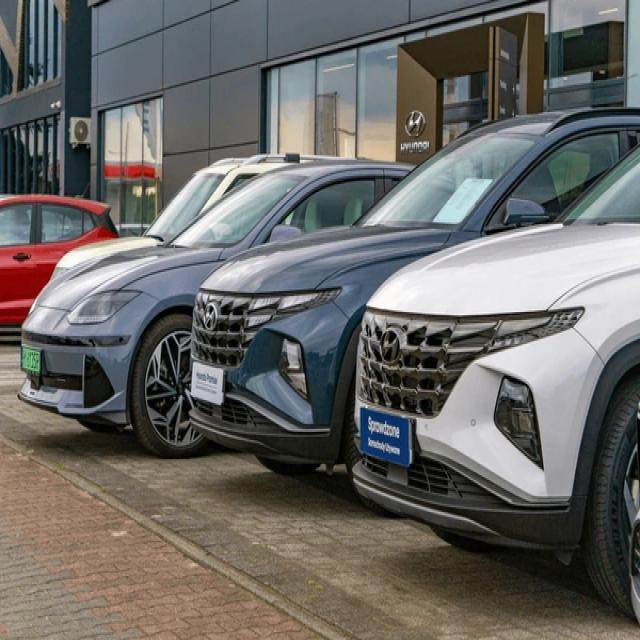hyundai: (378, 328, 406, 366), (203, 302, 220, 330)
